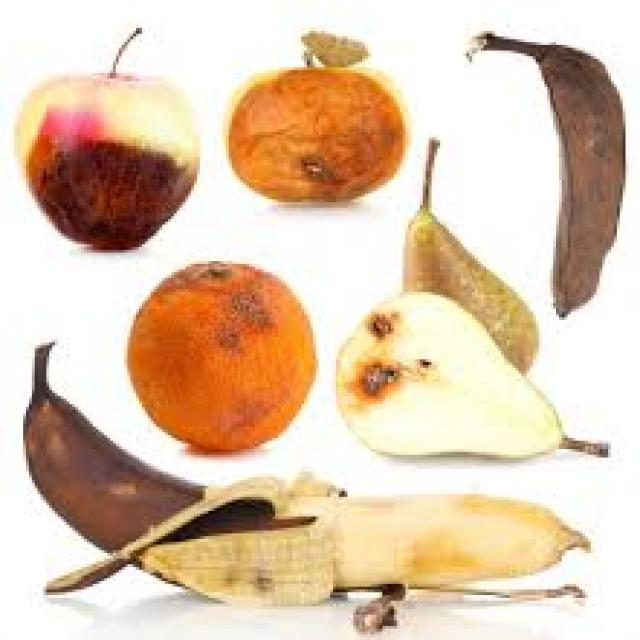organic waste: (20, 339, 591, 632), (330, 286, 608, 458), (458, 28, 620, 314), (12, 25, 197, 250), (121, 258, 312, 449), (396, 138, 536, 382), (223, 48, 405, 202), (298, 28, 365, 67)
